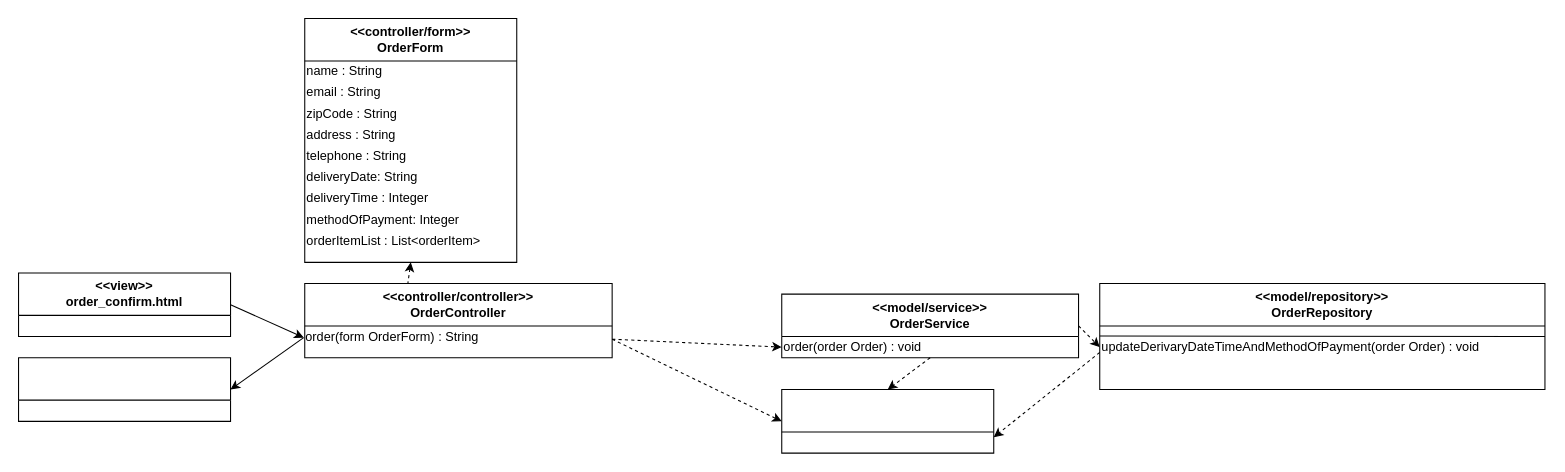
The diagram is 1565 pixels wide and 472 high, and some of its shapes have lost their labels. The shapes that lost their labels are listed below. From the top down, each one's centre as x and y in pixels, then its label:
At point (124, 389): "<<view>> order_finished.html".
At point (887, 420): "<<model/domain>> Order".
